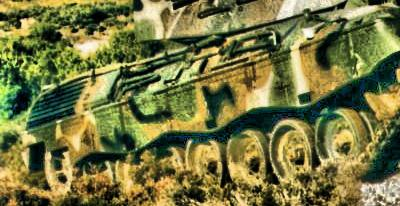tanks: (28, 1, 400, 188)
